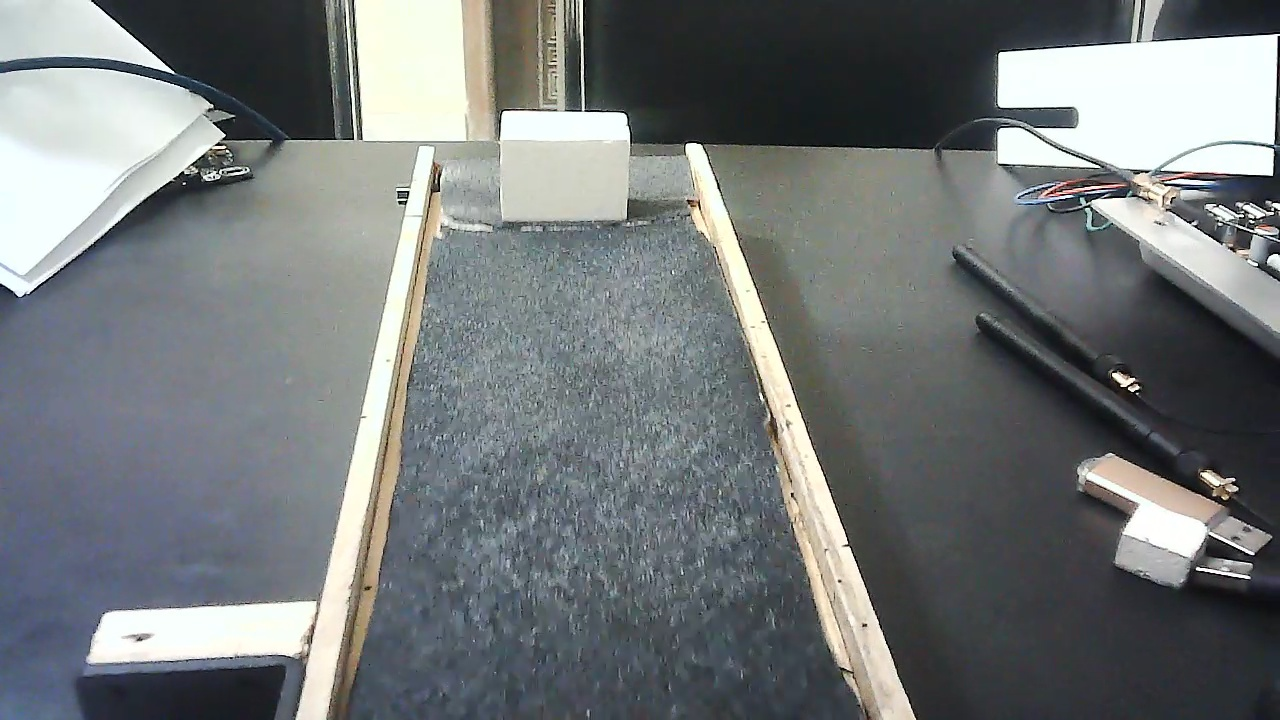BIG: (499, 101, 632, 234)
